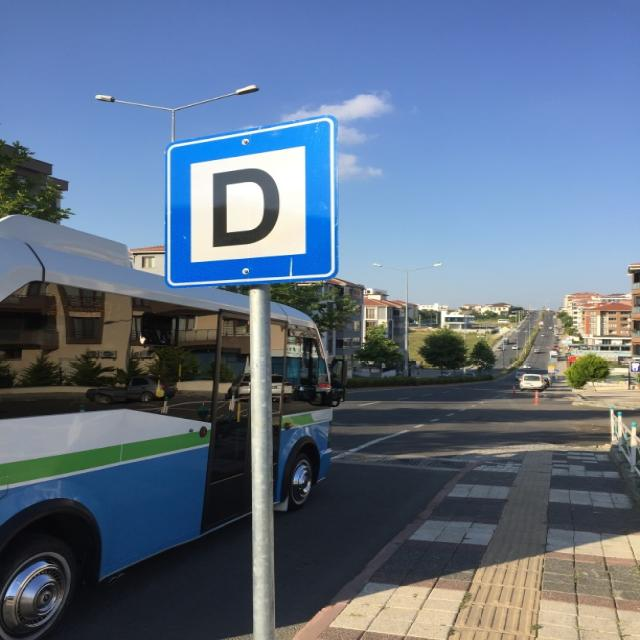durak: (158, 116, 346, 291)
